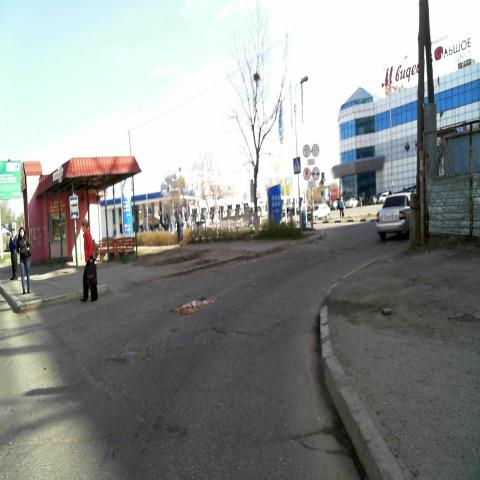3_16: (312, 166, 320, 182)
3_32: (303, 168, 311, 182)
